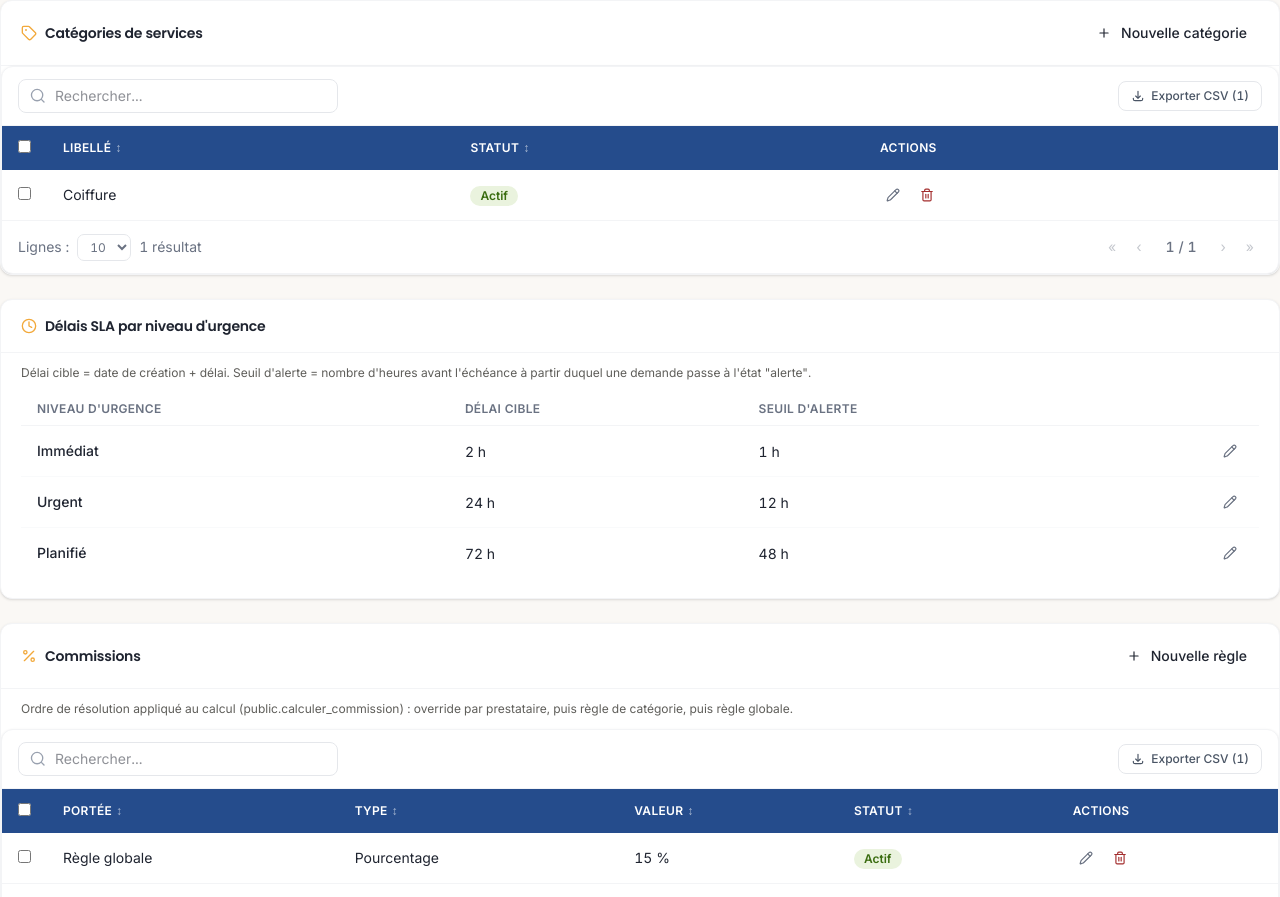
Test: ParametresMetier — categories_services / sla_config / commission_config › crée une nouvelle catégorie via le formulaire
Expected: the heading "Catégories de services" is shown, left=45, top=23, right=203, bottom=43
Step 1. Click the button "Nouvelle catégorie" → [1172, 33], box left=1085, top=17, right=1259, bottom=49
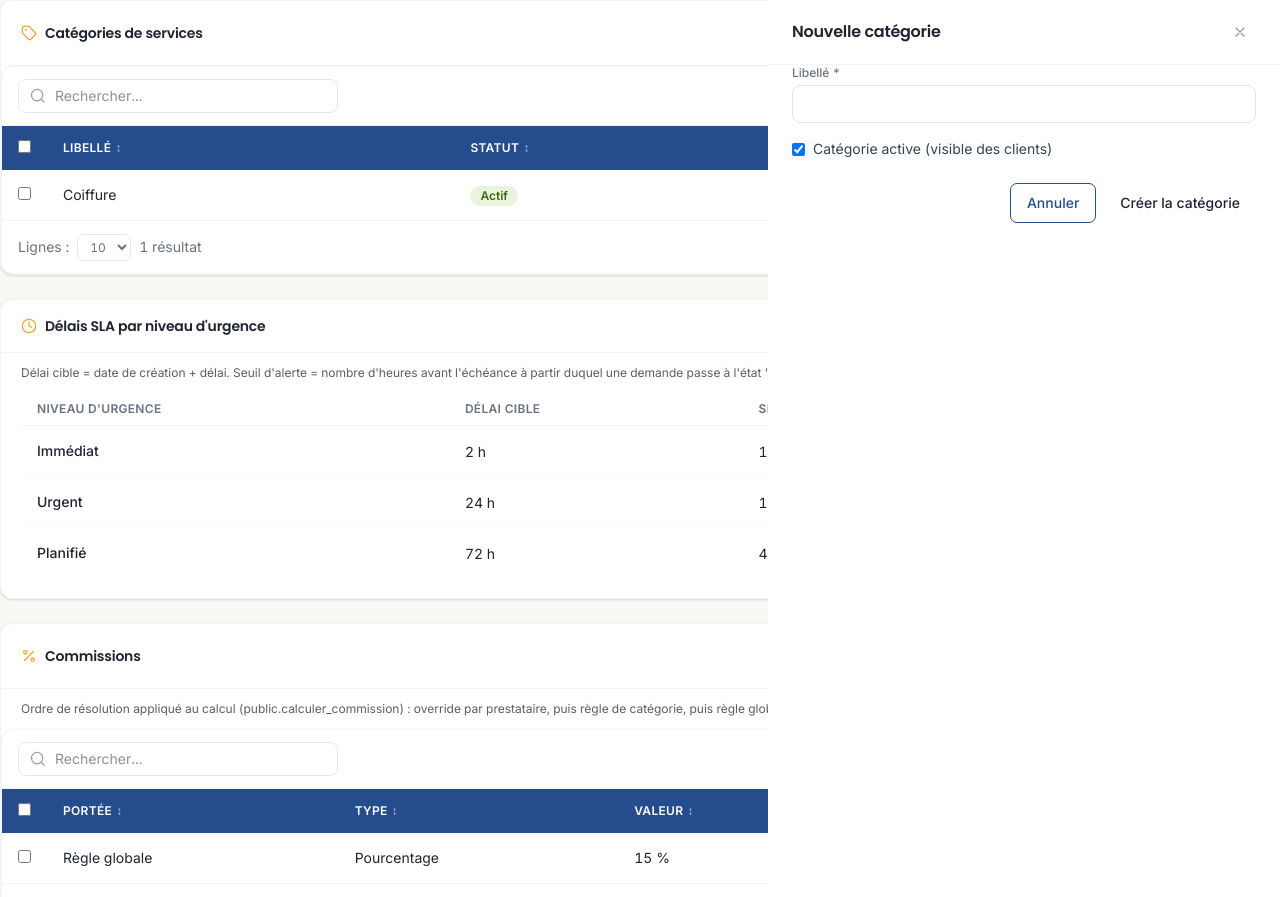
Step 2. Type "Taxi" into the field labelled "Libellé *" → [1024, 104], box left=792, top=85, right=1256, bottom=123
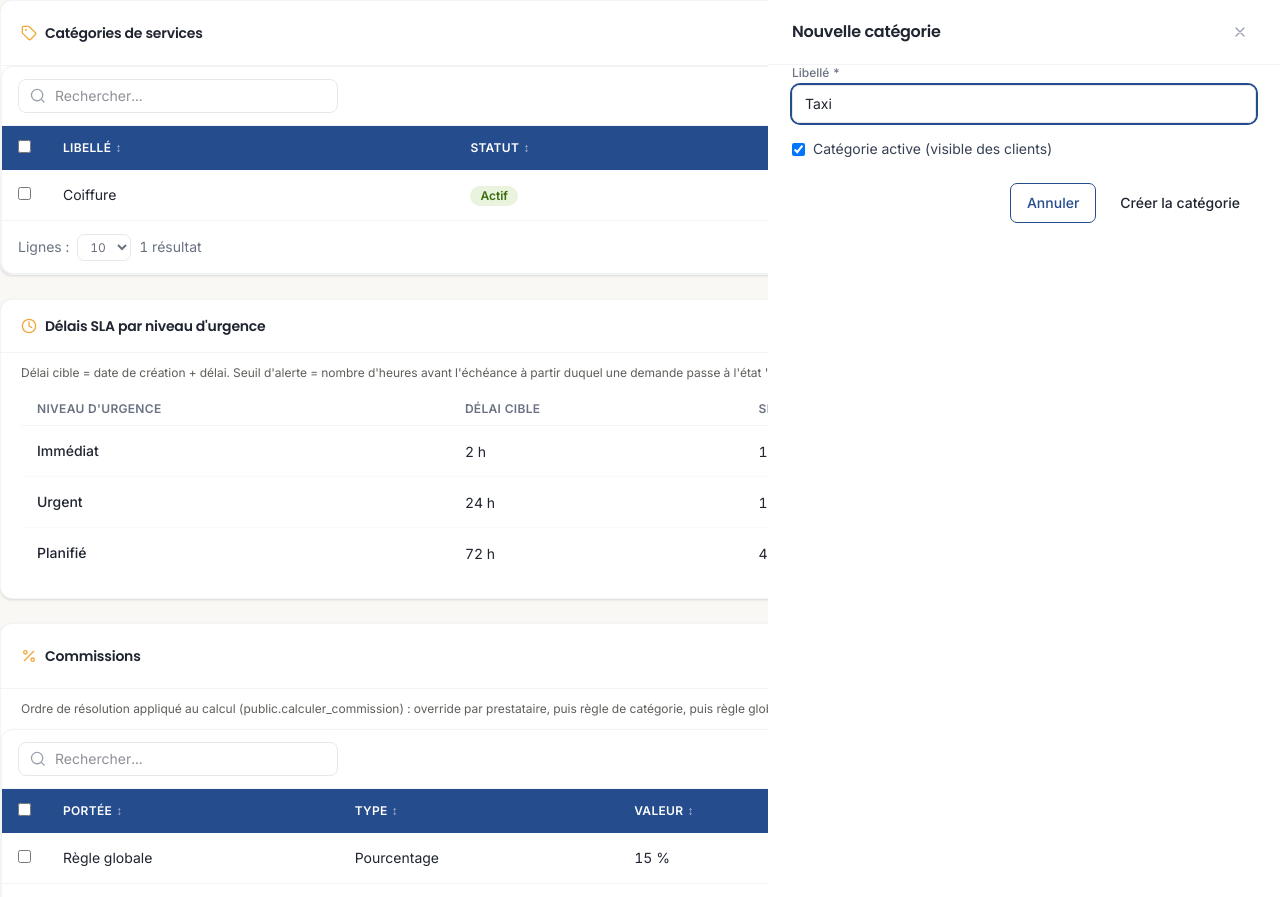
Step 3. Click the button "Créer la catégorie" → [1180, 203], box left=1104, top=183, right=1256, bottom=223
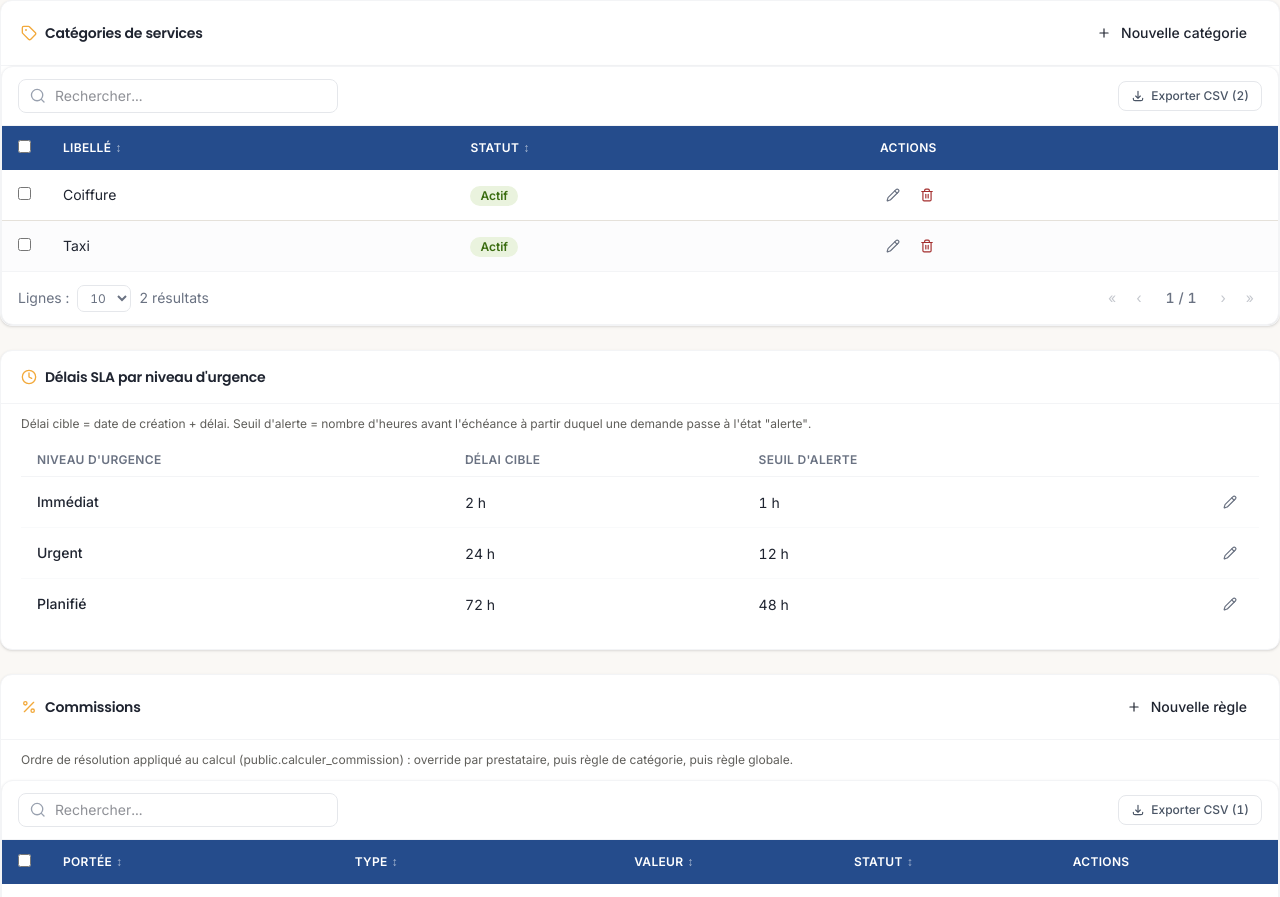
Expected: the text "Taxi" is shown, left=47, top=220, right=454, bottom=271
